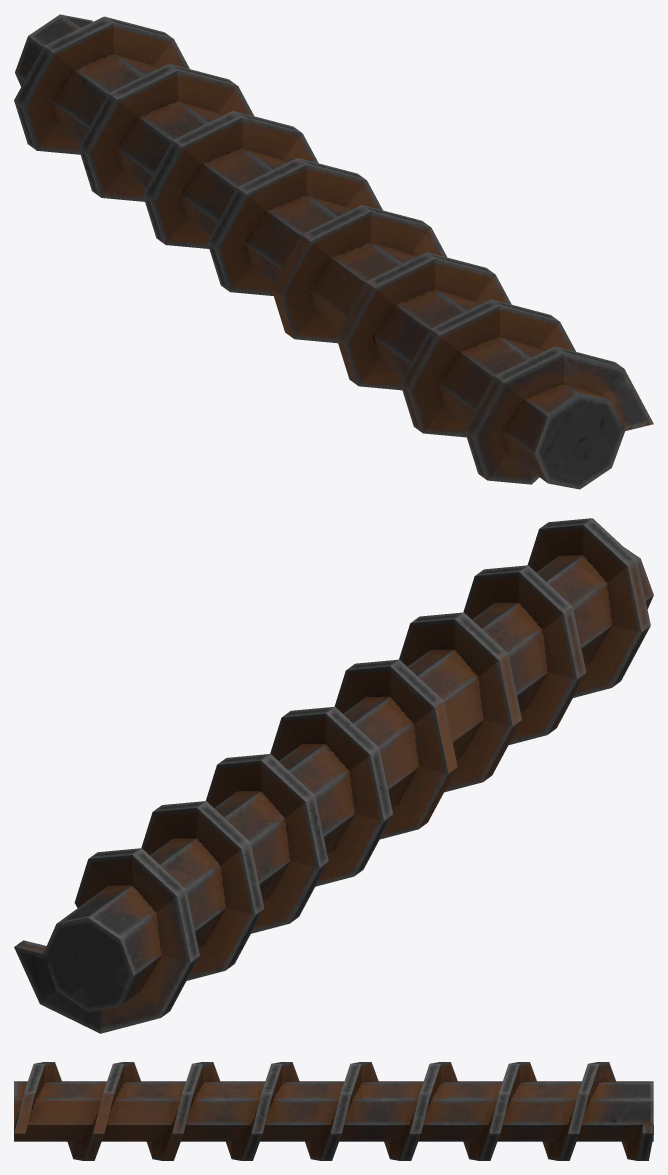
The model's file is SteelThreadedRod.glb.
3 views of the same model, one above another, from view 1: azimuth 30°, elevation 25°; view 2: azimuth 150°, elevation 25°; view 3: azimuth 270°, elevation 25° (orthographic). The views are drawn at different scales.
Visible parts, largest first — view 1: SteelThreadedRod; view 2: SteelThreadedRod; view 3: SteelThreadedRod.
Boxes of the visible parts, x1,y1,x2,y2 form: SteelThreadedRod: (14, 14, 653, 489); SteelThreadedRod: (14, 518, 653, 1033); SteelThreadedRod: (14, 1062, 653, 1160).
Size of the model in its own units: 0.133 by 0.133 by 0.8084.
1 material, 1 textured.
